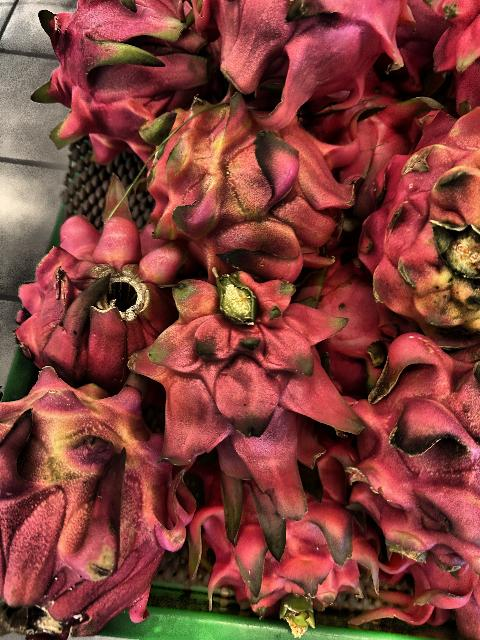buah-naga-belum-matang: (0, 358, 174, 640), (138, 85, 336, 287), (356, 113, 480, 335)
buah-naga-matang: (128, 279, 344, 483), (342, 319, 480, 595), (191, 460, 391, 634), (11, 206, 169, 384), (26, 0, 208, 142), (198, 0, 408, 112)
